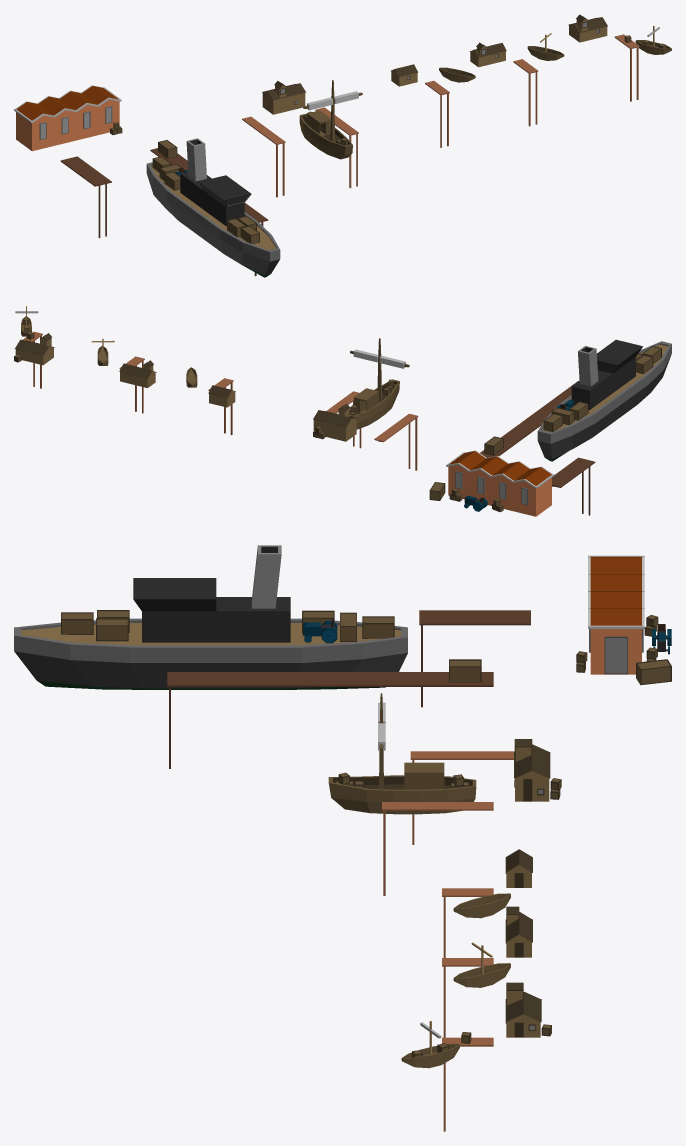
Rendered from Ports.fbx.
3 renders of one model, top to bottom at view 1: azimuth 30°, elevation 25°; view 2: azimuth 150°, elevation 25°; view 3: azimuth 270°, elevation 25°, orthographic. The views are drawn at different scales.
Parts seen in each view (by area): view 1: Port LVL4.002, Port LVL4, Port LVL3, Port LVL2, Port LVL1; view 2: Port LVL4.002, Port LVL4, Port LVL3, Port LVL2, Port LVL1; view 3: Port LVL4.002, Port LVL4, Port LVL3, Port LVL2, Port LVL1.
Part boxes in pixels (left/top/right/bottom): Port LVL4.002: left=14, top=85, right=280, bottom=277; Port LVL4: left=242, top=80, right=362, bottom=197; Port LVL3: left=568, top=14, right=671, bottom=101; Port LVL2: left=469, top=33, right=564, bottom=126; Port LVL1: left=391, top=64, right=475, bottom=147; Port LVL4.002: left=429, top=339, right=671, bottom=516; Port LVL4: left=313, top=338, right=418, bottom=470; Port LVL3: left=14, top=306, right=54, bottom=388; Port LVL2: left=91, top=338, right=156, bottom=413; Port LVL1: left=186, top=367, right=235, bottom=435; Port LVL4.002: left=14, top=545, right=671, bottom=768; Port LVL4: left=328, top=693, right=561, bottom=895; Port LVL3: left=401, top=982, right=551, bottom=1131; Port LVL2: left=442, top=906, right=532, bottom=1037; Port LVL1: left=442, top=849, right=532, bottom=957.
Size of the model in its own units: 12668 by 2450 by 7666.
